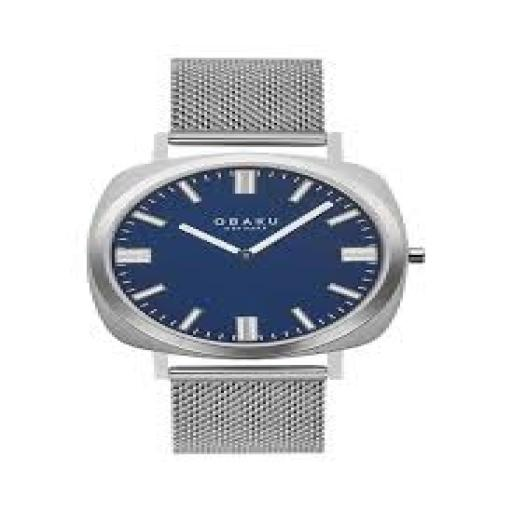KolSaati: (38, 44, 430, 482)
